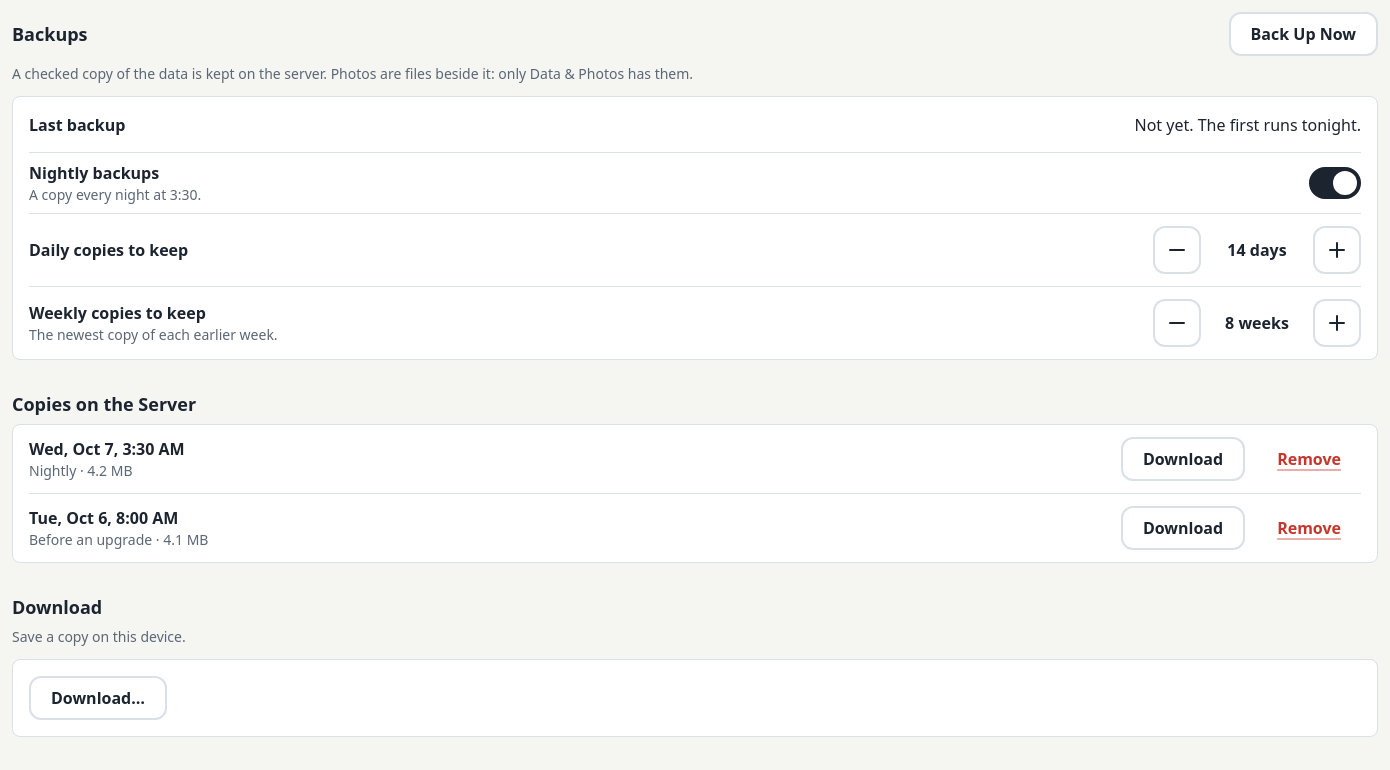
Test: the nightly copies (ADR 0034) › hides the counts when they're off, and saves the switch at once
The image size is (1390, 770).
expect the element named "Daily copies to keep" is shown: met, box [1153, 226, 1361, 274]
expect the element named "Weekly copies to keep" is shown: met, box [1153, 299, 1361, 347]
Click the switch labelled "Nightly backups A copy every night at 3:30." at (1335, 183), box [1309, 167, 1361, 199]
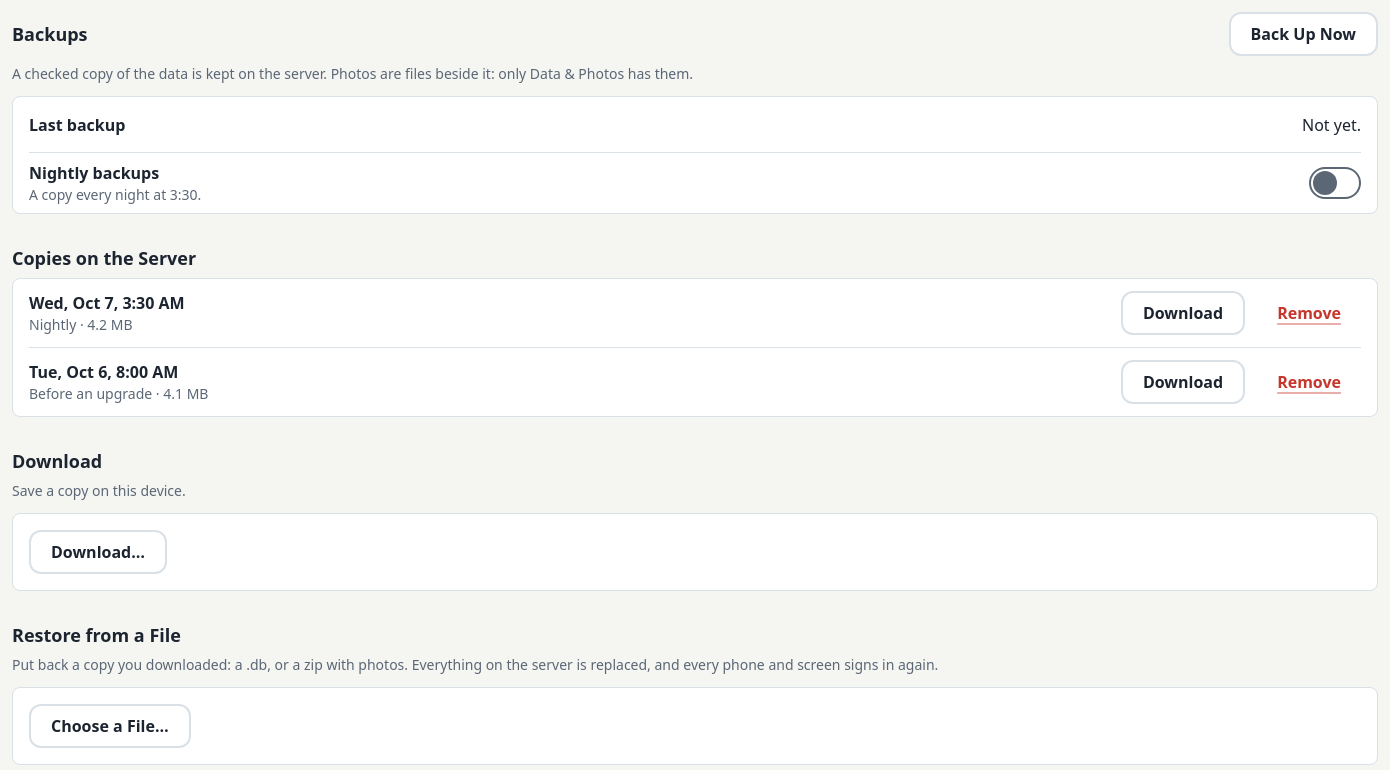
expect the text "Daily copies to keep" is gone: met
expect the text "Weekly copies to keep" is gone: met
